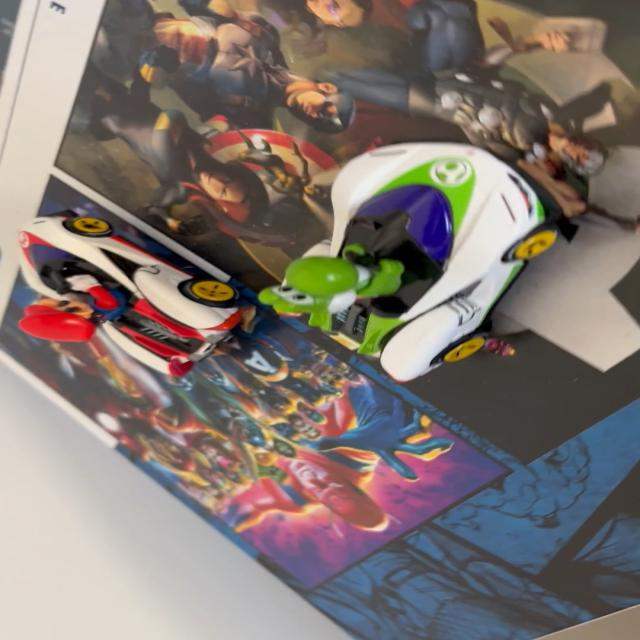mario: (7, 202, 262, 389)
yoshi: (260, 126, 584, 398)
